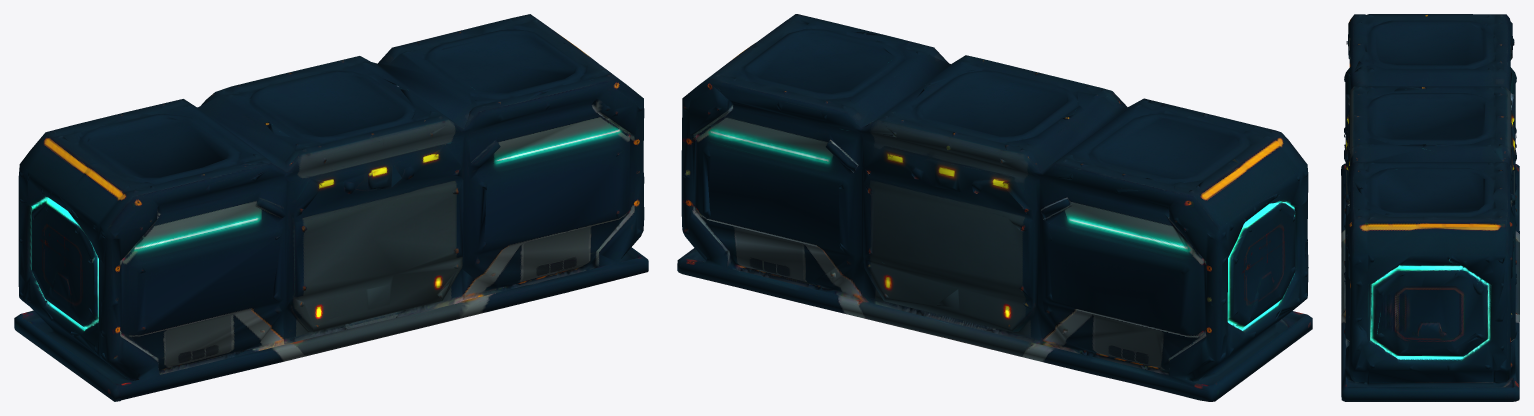
The picture shows the model from 3 angles, left to right: view 1: azimuth 30°, elevation 25°; view 2: azimuth 150°, elevation 25°; view 3: azimuth 270°, elevation 25°; orthographic projection. The views are drawn at different scales.
Size of the model in its own units: 1.9 by 0.6622 by 0.6226.
1 material, 1 textured.
